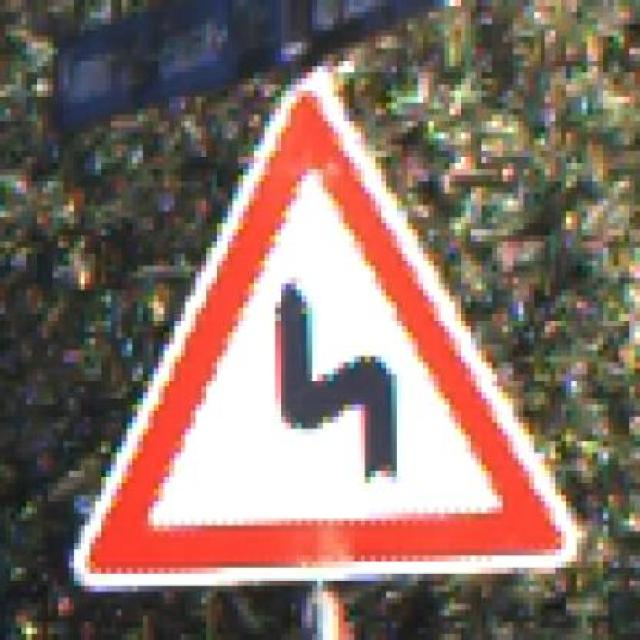Left Zig Zag Traffic: (58, 36, 572, 598)
